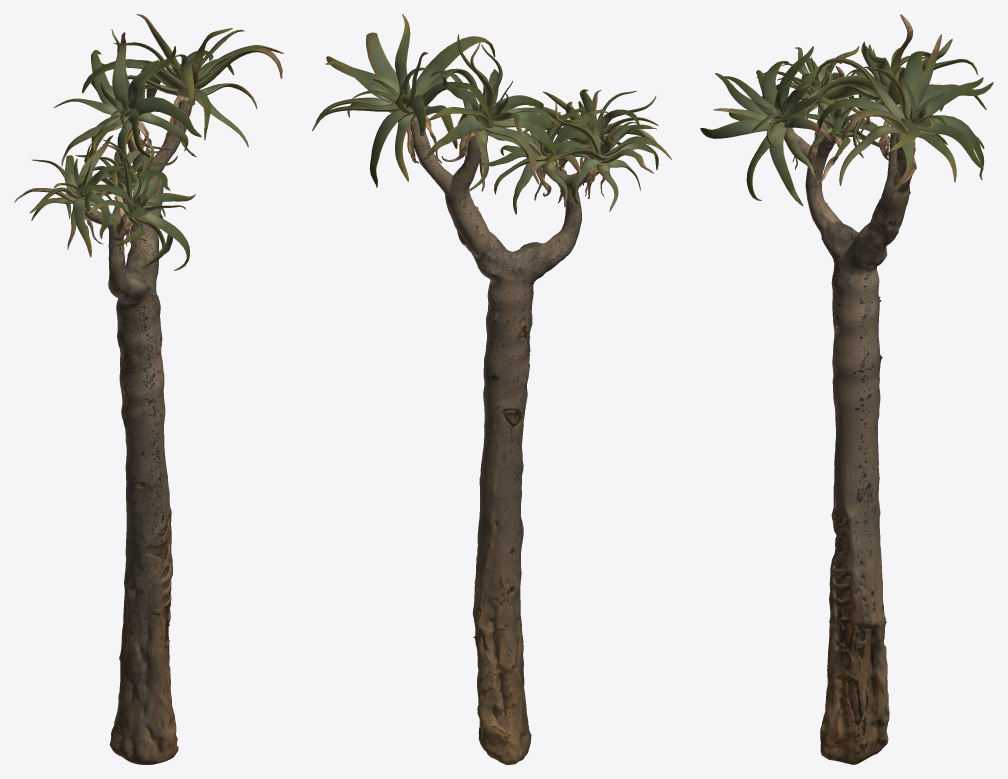
The model's file is quiver_tree_01.glb.
3 renders of one model, left to right at view 1: azimuth 30°, elevation 25°; view 2: azimuth 150°, elevation 25°; view 3: azimuth 270°, elevation 25°, orthographic. The views are drawn at different scales.
Visible parts, largest first — view 1: quiver_tree_01; view 2: quiver_tree_01; view 3: quiver_tree_01.
Boxes of the visible parts, x1,y1,x2,y2 form: quiver_tree_01: [14, 14, 283, 764]; quiver_tree_01: [312, 14, 671, 764]; quiver_tree_01: [700, 14, 993, 764].
Size of the model in its own units: 1.18 by 2.72 by 0.9685.
2 materials, 2 textured.
